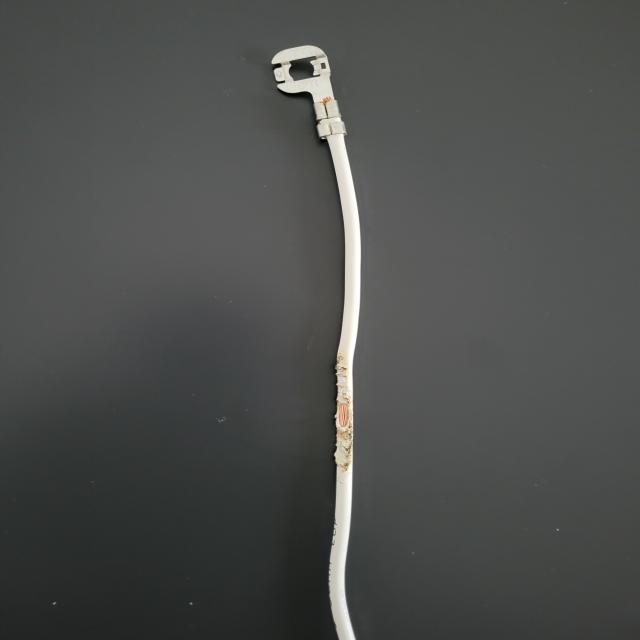defect: (309, 341, 392, 479)
